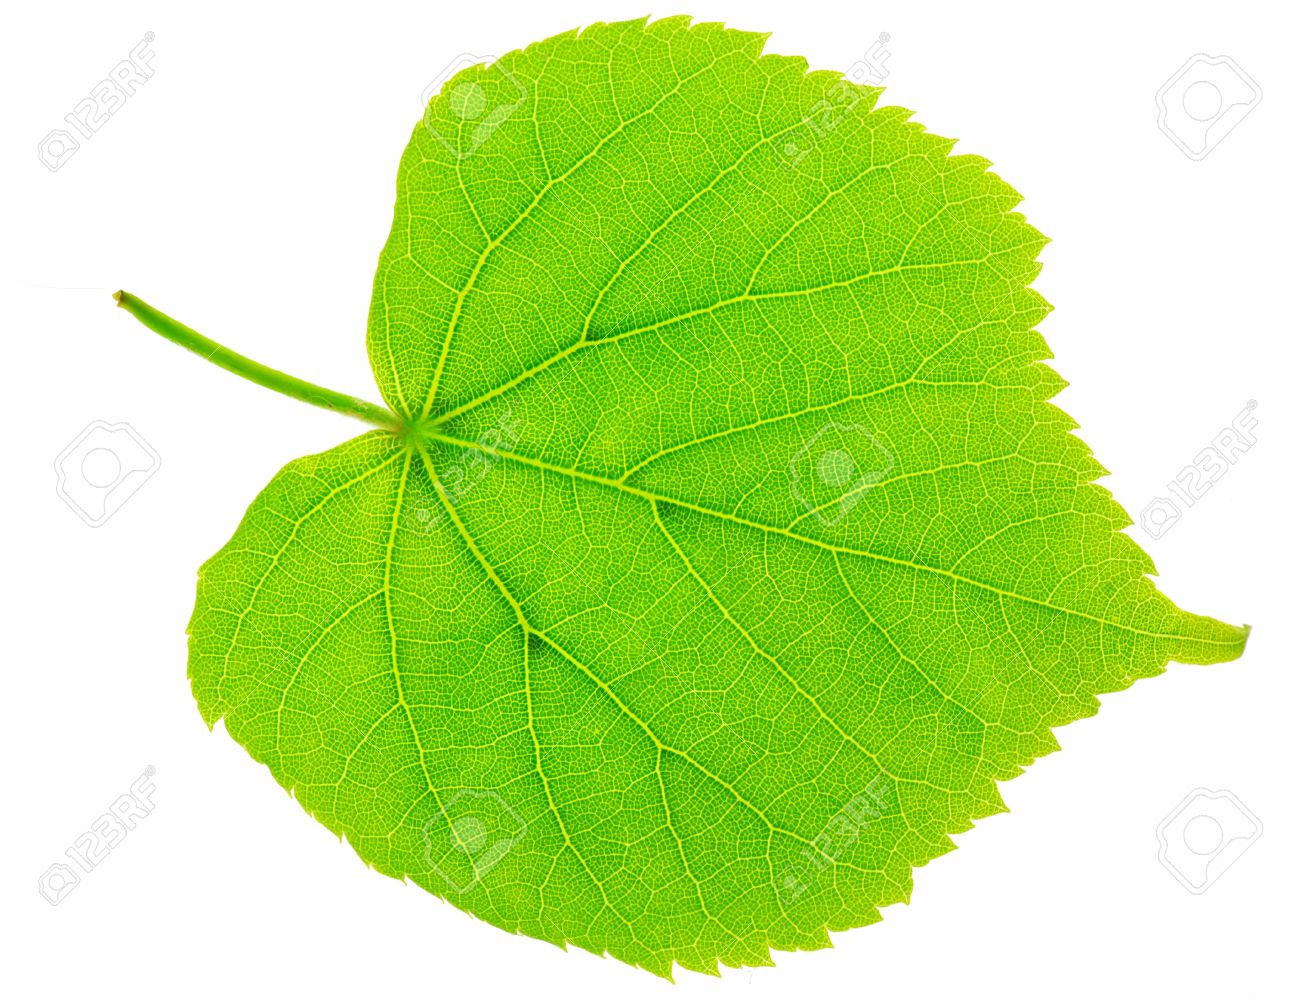healthy: (155, 22, 1230, 964)
